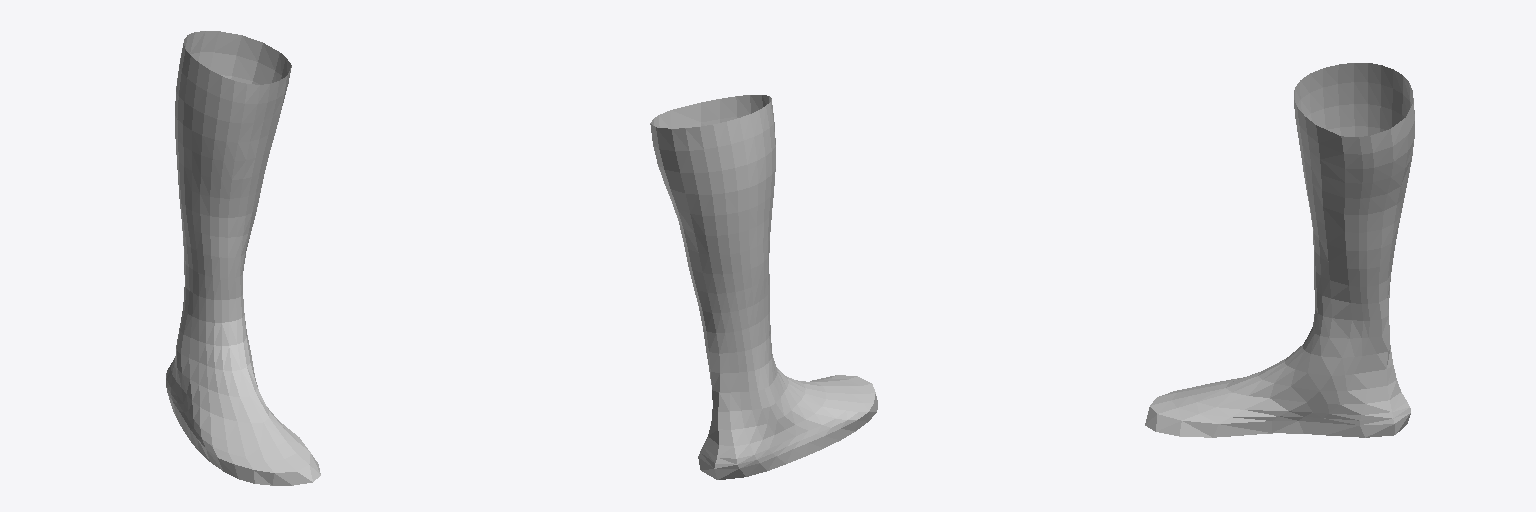
The model's file is RightKnee.obj.
3 renders of one model, left to right at view 1: azimuth 30°, elevation 25°; view 2: azimuth 150°, elevation 25°; view 3: azimuth 270°, elevation 25°, orthographic.
Parts seen in each view (by area): view 1: polySurface42 polySurface39 polySurface38 polySurface8 polySurfa; view 2: polySurface42 polySurface39 polySurface38 polySurface8 polySurfa; view 3: polySurface42 polySurface39 polySurface38 polySurface8 polySurfa.
Part boxes in pixels (bbox=[...]): polySurface42 polySurface39 polySurface38 polySurface8 polySurfa: bbox=[166, 31, 320, 485]; polySurface42 polySurface39 polySurface38 polySurface8 polySurfa: bbox=[650, 95, 877, 479]; polySurface42 polySurface39 polySurface38 polySurface8 polySurfa: bbox=[1145, 63, 1414, 437].
Bounding box in the file's own units: 6.53 × 16.17 × 10.97.